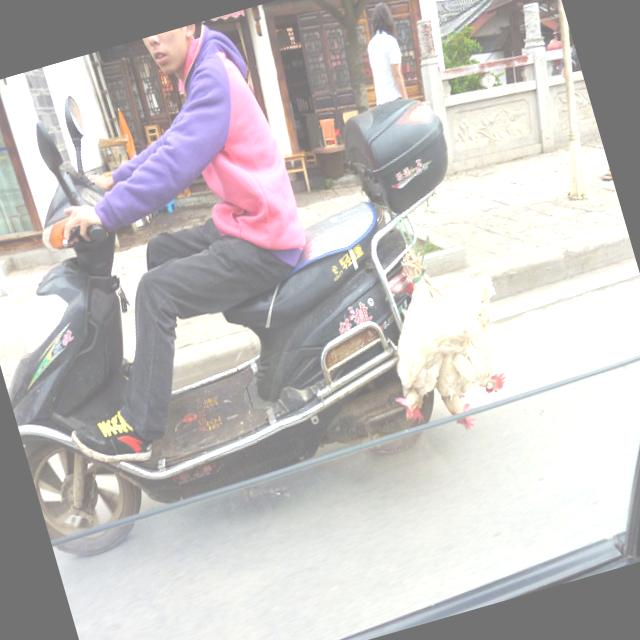Vehicle: (0, 0, 526, 567), (46, 349, 640, 640)
